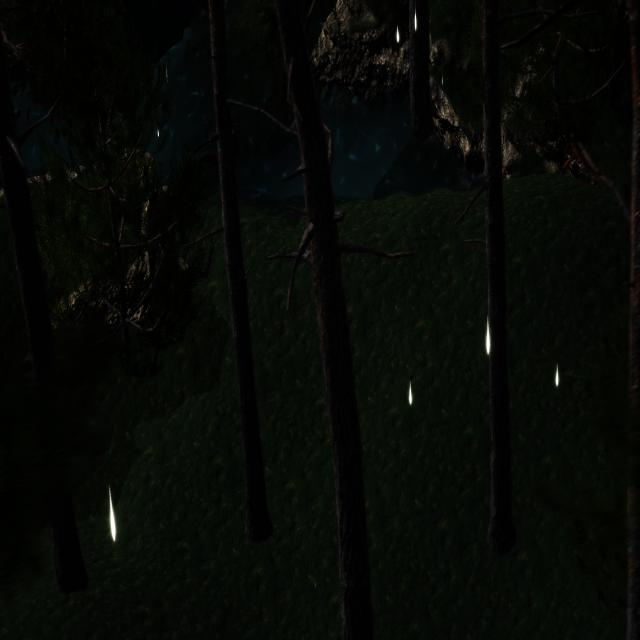Human: (186, 118, 246, 182)
